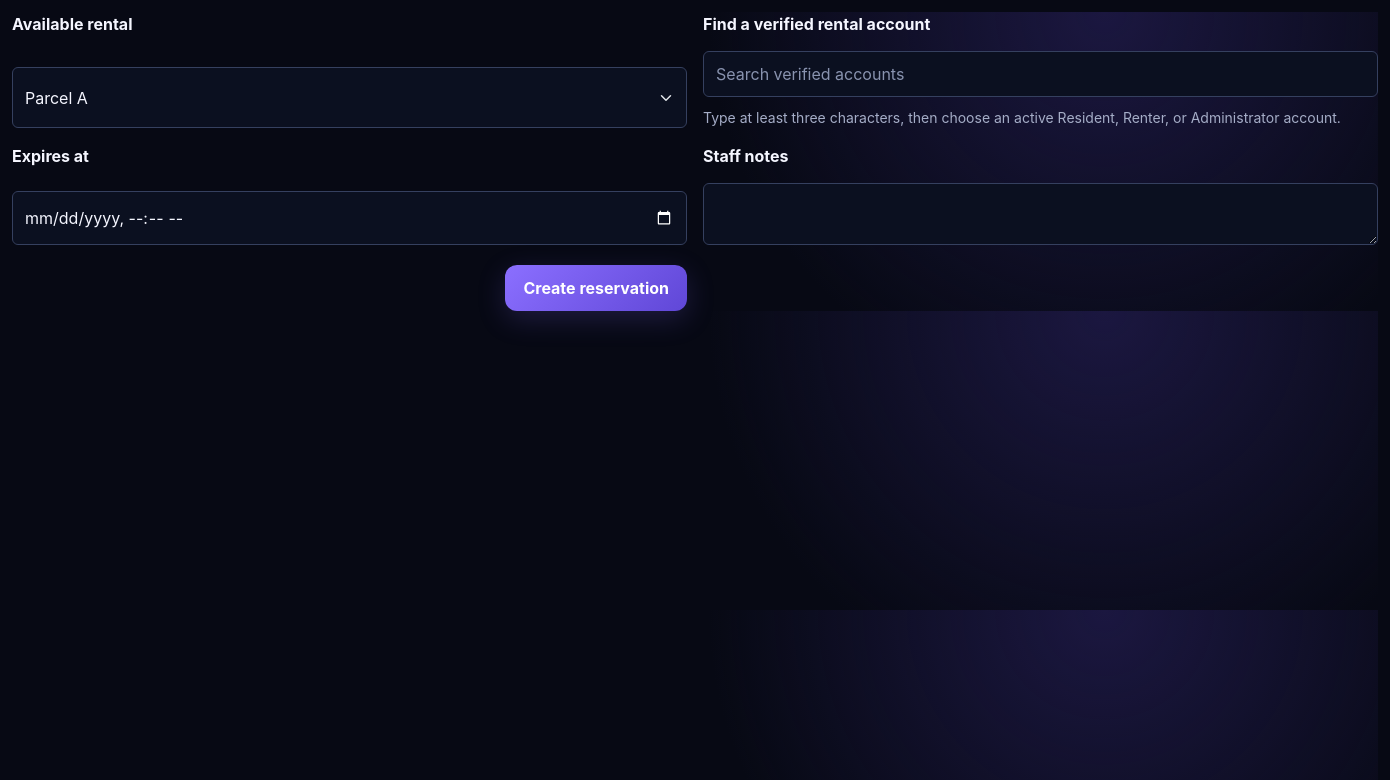
it: management modal behavior › ignores stale account-search responses that arrive out of order
This screenshot has width=1390, height=780.
Type "ril" into the dropdown labelled "Find a verified rental account".
click(1040, 74); type("ril")  # box x1=703 y1=51 x2=1378 y2=97
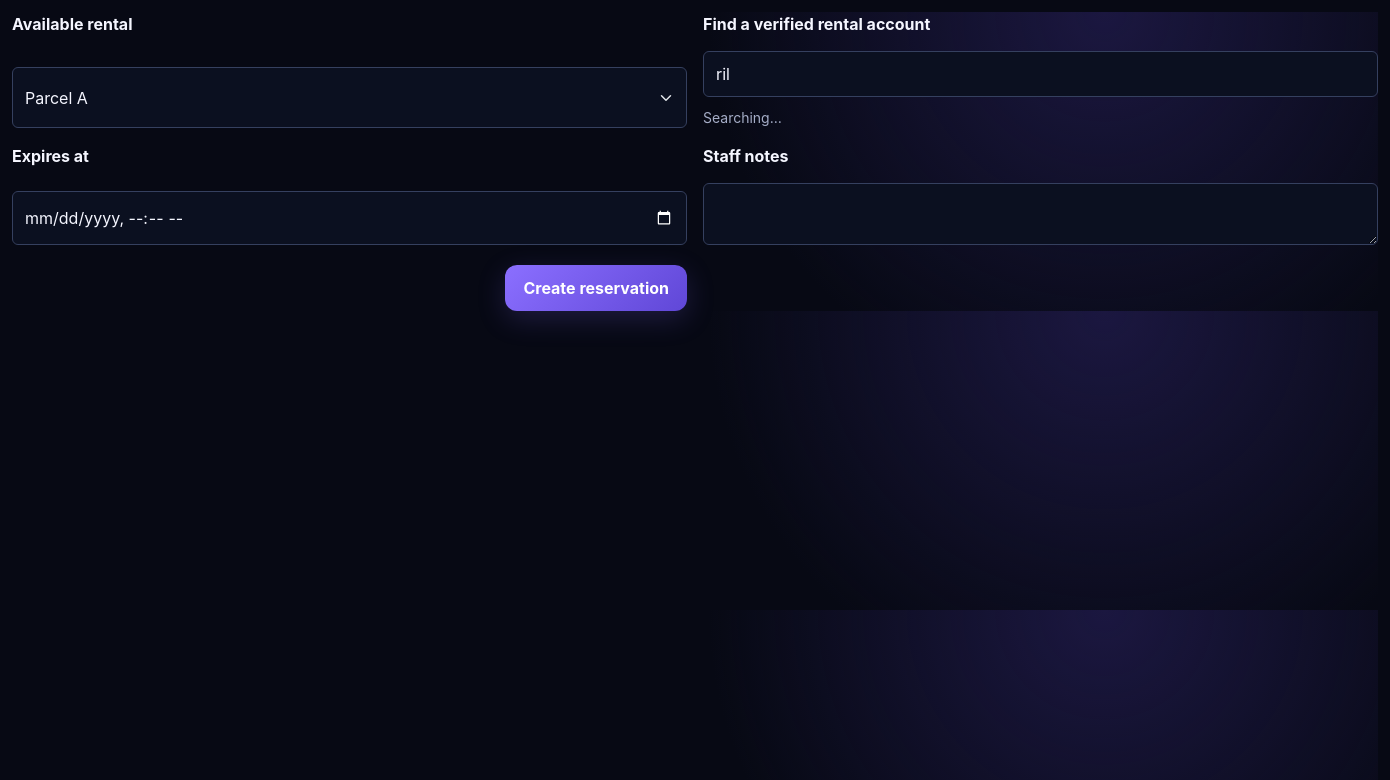
Replace the text in the dropdown labelled "Find a verified rental account" with "mir" at (1040, 74), box x1=703 y1=51 x2=1378 y2=97
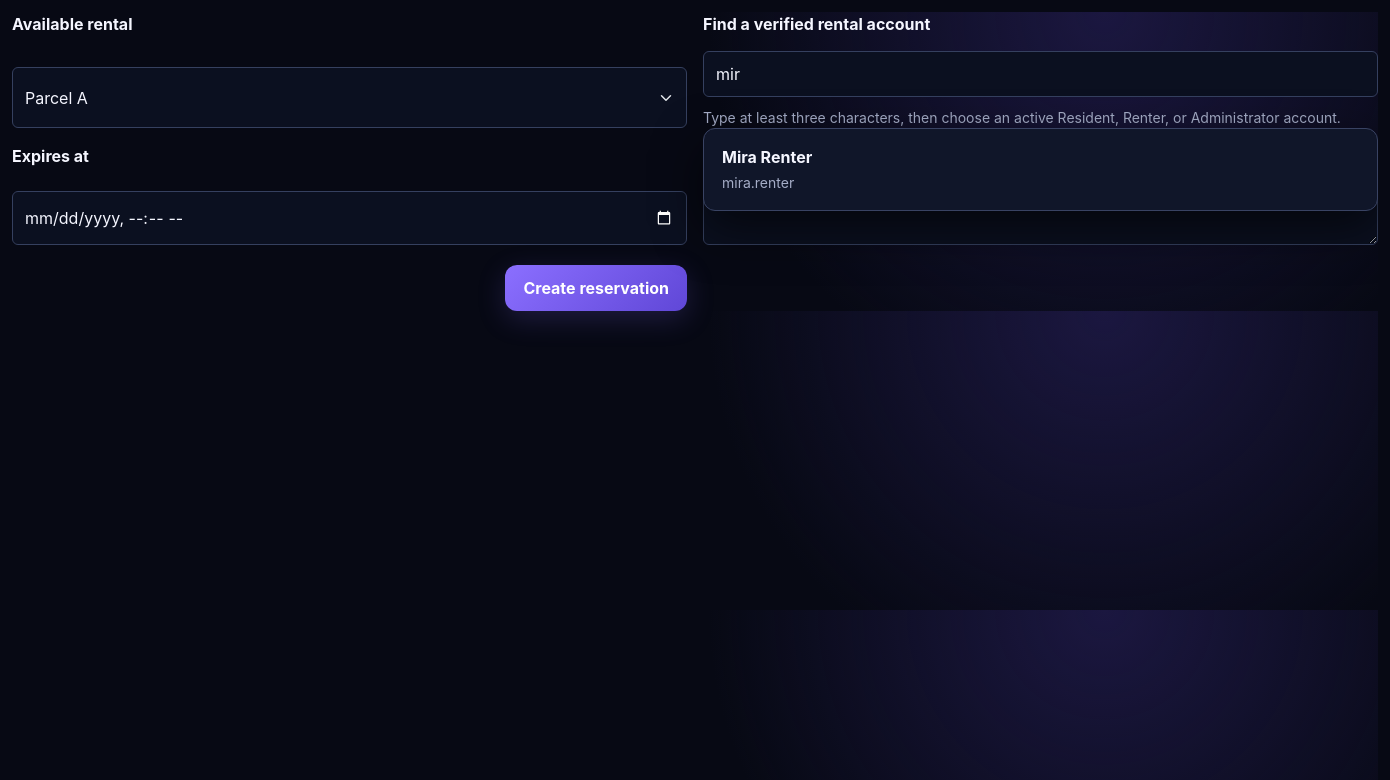
Result: the option "Mira Renter mira.renter" is shown at x1=710 y1=136 x2=1371 y2=204
